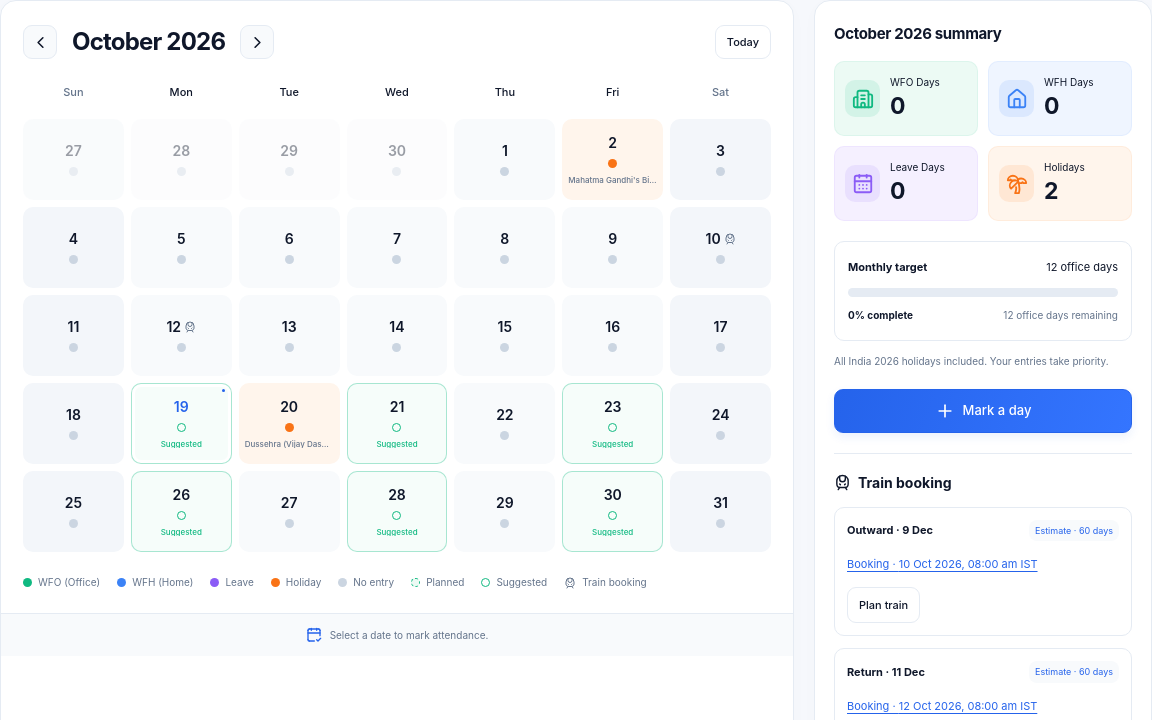
Scenario: Calendar to train reminders › keeps attendance marking available on a booking date
Click the button "10".
click(720, 248)  # box [670,207,771,288]
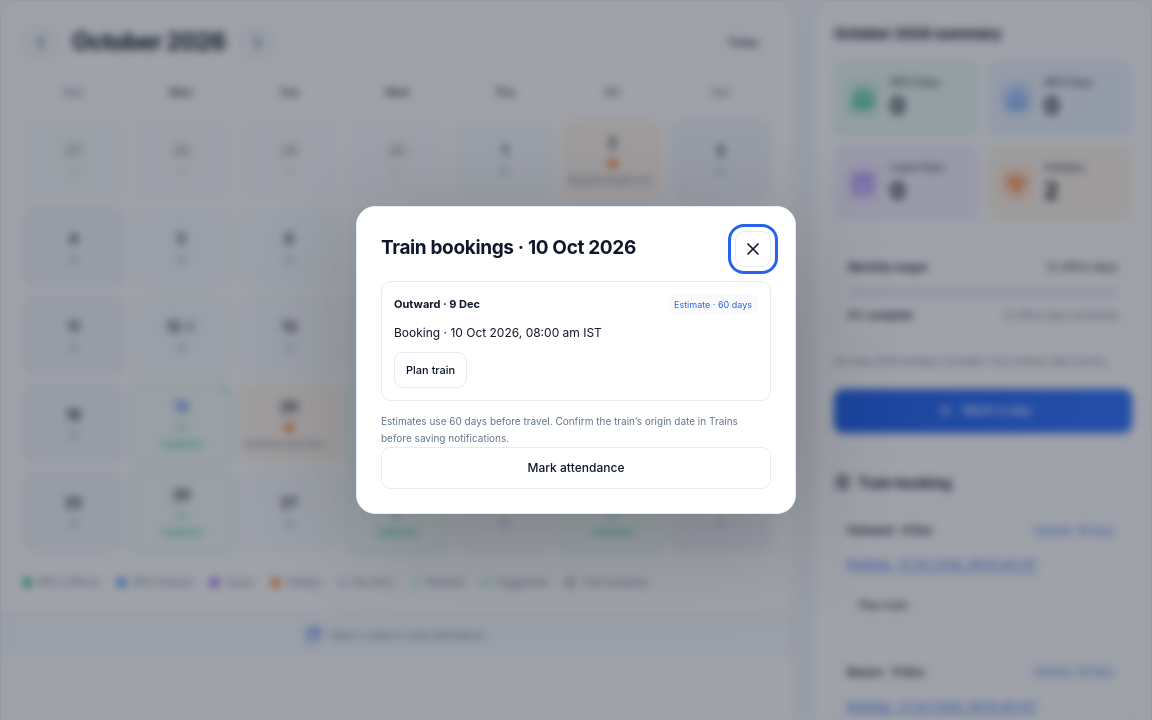
Click the button "Mark attendance".
click(576, 468)  # box [381,447,771,489]
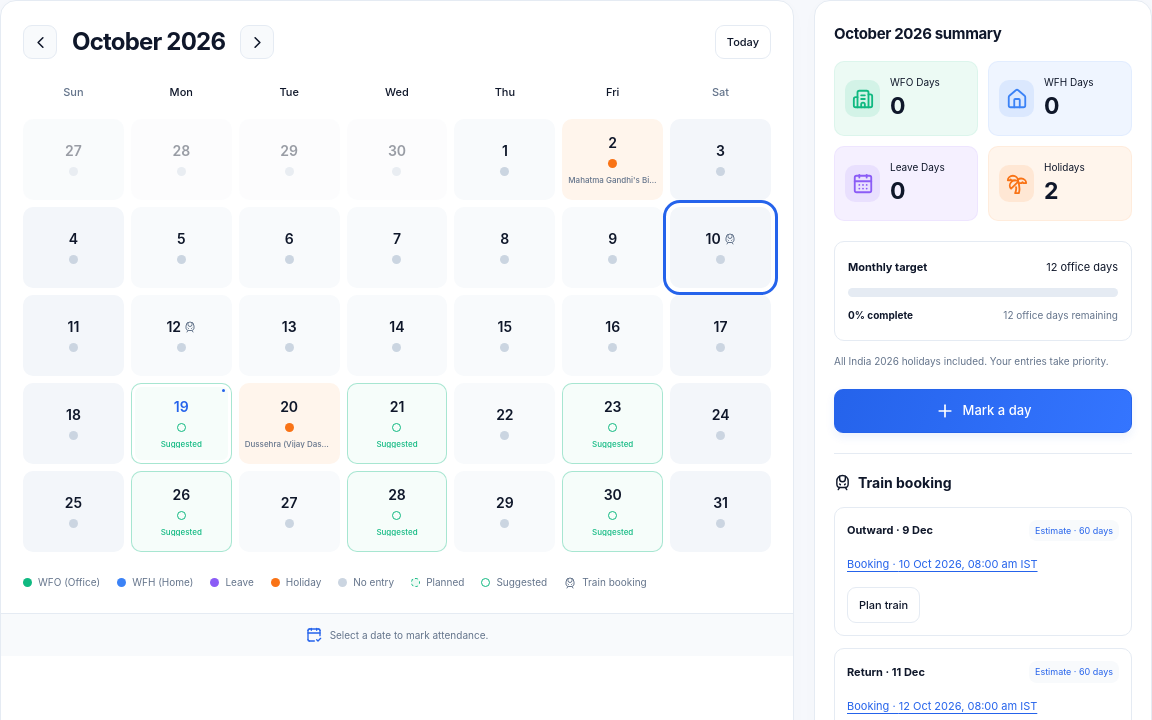
Result: the dialog is gone
